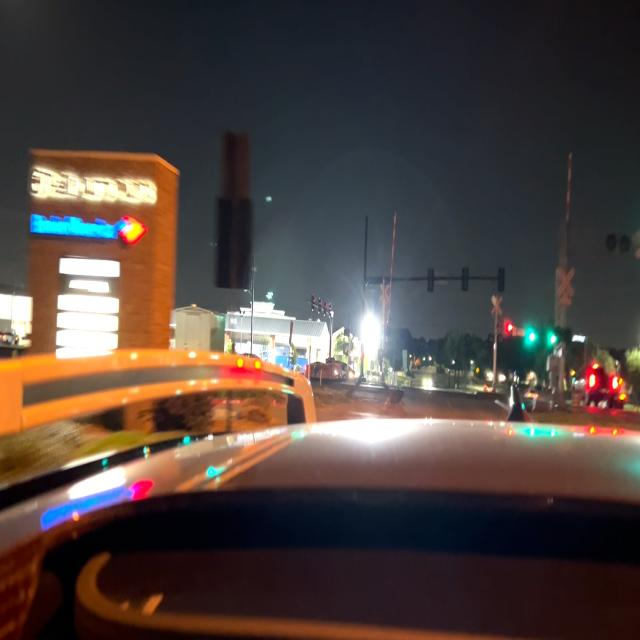back-of-sign: (218, 128, 252, 293)
